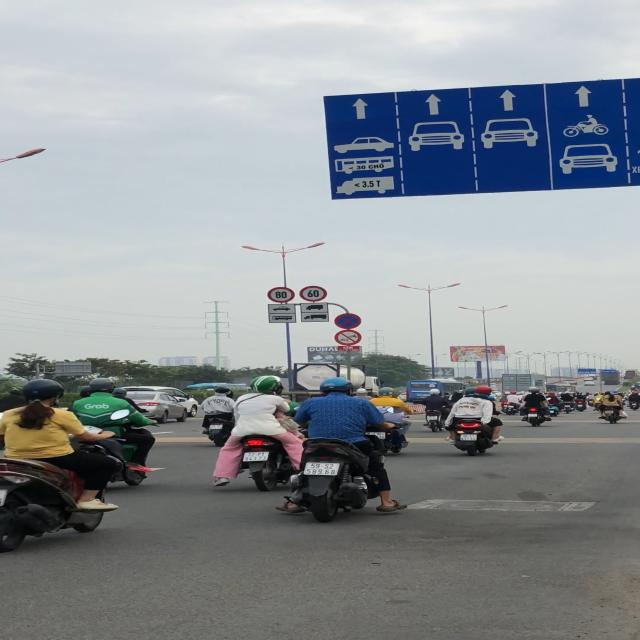Bien bao cam dung xe va do xe: (334, 312, 363, 330)
Bien bao toc do toi da cho phep: (267, 286, 296, 303), (298, 286, 328, 302)
